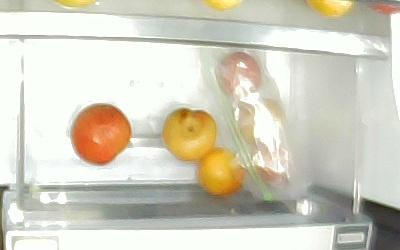prune: (68, 101, 131, 165), (161, 105, 216, 161), (195, 145, 244, 197)
prune_vinyl: (234, 96, 284, 148), (213, 50, 261, 98), (248, 144, 293, 186)
